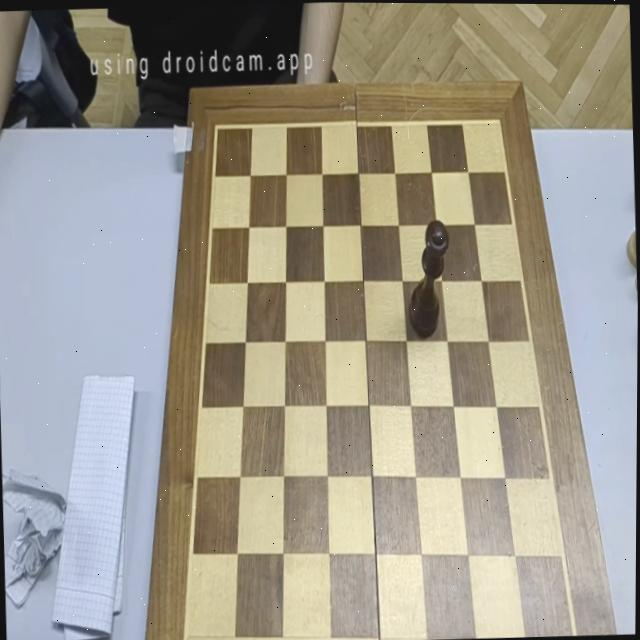black_queen: (406, 219, 452, 337)
